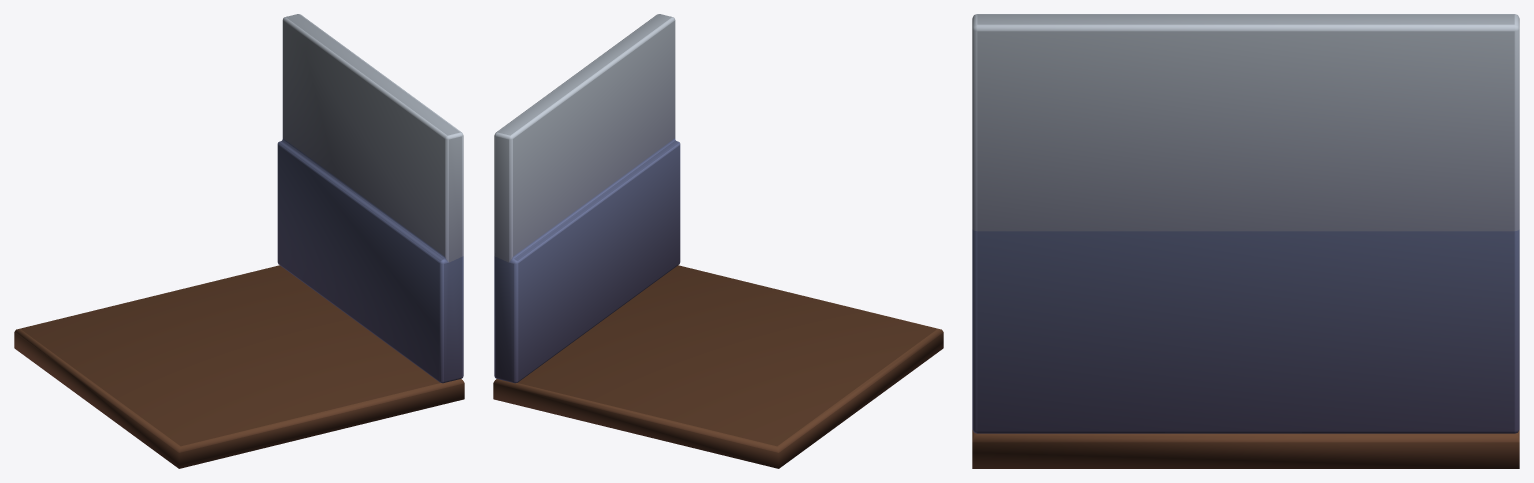
Rendered from wall.fbx.
The picture shows the model from 3 angles, left to right: view 1: azimuth 30°, elevation 25°; view 2: azimuth 150°, elevation 25°; view 3: azimuth 270°, elevation 25°; orthographic projection. The views are drawn at different scales.
Parts seen in each view (by area): view 1: wall; view 2: wall; view 3: wall.
Boxes of the visible parts, box(x1,y1,x2,y2) form: wall: box(14, 14, 464, 468); wall: box(493, 14, 943, 468); wall: box(972, 14, 1519, 468).
Size of the model in its own units: 1000 by 891 by 1000.
